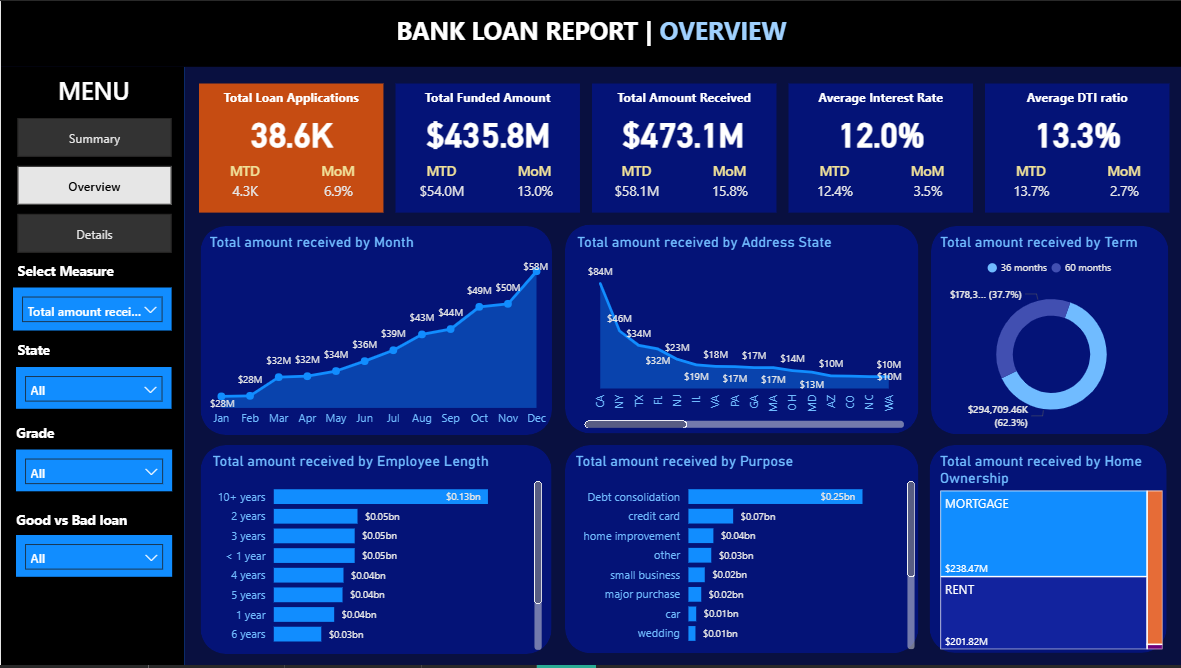

The dashboard page shown, as its layout file describes it:
{"tool":"powerbi","page":{"name":"Overview","canvas":[1280,720],"ordinal":1},"visuals":[{"type":"shape","box":[0,0,1280.1,71.6],"z":0},{"type":"shape","box":[0,71.6,198.4,649],"z":1000},{"type":"textbox","box":[366,8.1,548.1,53.7],"z":2000},{"type":"textbox","box":[214.3,89.2,200,140],"z":3000},{"type":"card","fields":{"Values":["bankdata loandata.Total Loan Applications"]},"box":[225.5,118,177.5,46.2],"z":4000},{"type":"card","title":"MTD","fields":{"Values":["bankdata loandata.MTD loan applications"]},"box":[225.5,173.8,76.7,46.7],"z":5000},{"type":"card","title":"MoM","fields":{"Values":["bankdata loandata.MoM loan applications"]},"box":[326.4,173.8,76.7,46.7],"z":6000},{"type":"textbox","box":[428,89.3,200,140],"z":7000},{"type":"card","fields":{"Values":["bankdata loandata.Total funded amount"]},"box":[439.7,118,177.5,46.7],"z":8000},{"type":"card","title":"MTD","fields":{"Values":["bankdata loandata.MTD funded amount"]},"box":[439.7,173.8,76.7,46.7],"z":9000},{"type":"card","title":"MoM","fields":{"Values":["bankdata loandata.MoM funded amount"]},"box":[540.5,173.8,76.7,46.7],"z":10000},{"type":"textbox","box":[640.5,89.4,200,140],"z":11000},{"type":"textbox","box":[853.9,89.5,200,140],"z":12000},{"type":"textbox","box":[1067.2,89.6,200,140],"z":13000},{"type":"card","fields":{"Values":["bankdata loandata.Total amount received"]},"box":[651.4,118,177.5,46.7],"z":14000},{"type":"card","fields":{"Values":["bankdata loandata.Avg interest rate"]},"box":[864.7,118,177.5,46.7],"z":15000},{"type":"card","fields":{"Values":["bankdata loandata.Avg dti ratio"]},"box":[1078,118,177.5,46.7],"z":16000},{"type":"card","title":"MTD","fields":{"Values":["bankdata loandata.MTD amount received"]},"box":[651.4,173.8,76.7,46.7],"z":17000},{"type":"card","title":"MoM","fields":{"Values":["bankdata loandata.MoM amount received"]},"box":[752.2,173.8,76.7,46.7],"z":18000},{"type":"card","title":"MTD","fields":{"Values":["bankdata loandata.MTD interest rate"]},"box":[864.7,173.8,76.7,46.7],"z":19000},{"type":"card","title":"MTD","fields":{"Values":["bankdata loandata.MTD dti"]},"box":[1078,173.8,76.7,46.7],"z":20000},{"type":"card","title":"MoM","fields":{"Values":["bankdata loandata.MoM interest rate"]},"box":[965.5,173.8,76.7,46.7],"z":21000},{"type":"card","title":"MoM","fields":{"Values":["bankdata loandata.MoM"]},"box":[1178.9,173.8,76.7,46.7],"z":22000},{"type":"shape","box":[216.7,243.3,381.1,226.7],"z":23000},{"type":"slicer","title":"State","fields":{"Values":["bankdata loandata.Address_State"]},"box":[16.7,396.7,168.3,45],"z":24000},{"type":"textbox","box":[12.7,362.7,123.6,33.6],"z":25000},{"type":"slicer","title":"State","fields":{"Values":["bankdata loandata.Grade"]},"box":[16.4,486.4,169.1,45.5],"z":26000},{"type":"textbox","box":[11.8,452.7,123.6,33.6],"z":27000},{"type":"slicer","title":"State","fields":{"Values":["bankdata loandata.Good vs Bad loan"]},"box":[16.7,579.4,169.1,45.5],"z":28000},{"type":"textbox","box":[11.4,545.7,172.9,34.3],"z":29000},{"type":"areaChart","fields":{"Y":["bankdata loandata.Total amount received"],"Category":["Date table.Month"]},"box":[221.1,252.2,376.7,217.8],"z":30000},{"type":"slicer","fields":{"Values":["Select Measure.Select Measure"]},"box":[13.3,310,171.7,46.7],"z":31000},{"type":"textbox","box":[13.8,276.2,123.8,33.8],"z":32000},{"type":"shape","box":[611.7,241.7,383.3,226.7],"z":33000},{"type":"areaChart","fields":{"Y":["bankdata loandata.Total amount received"],"Category":["bankdata loandata.Address_State"]},"box":[619.6,252.6,364.3,215.7],"z":34000},{"type":"shape","box":[1009.2,243.3,257.5,225.8],"z":35000},{"type":"donutChart","fields":{"Y":["bankdata loandata.Total amount received"],"Category":["bankdata loandata.Term"]},"box":[1013.3,252.5,250.8,216.7],"z":36000},{"type":"shape","box":[216.7,481.7,380.8,226.7],"z":37000},{"type":"barChart","fields":{"Y":["bankdata loandata.Total amount received"],"Category":["bankdata loandata.Emp_Length"]},"box":[224.2,489.2,366.7,219.2],"z":38000},{"type":"shape","box":[611.7,481.7,383.3,225.8],"z":39000},{"type":"barChart","fields":{"Y":["bankdata loandata.Total amount received"],"Category":["bankdata loandata.Purpose"]},"box":[617.5,489.2,377.5,218.3],"z":40000},{"type":"shape","box":[1007.3,481.8,257.3,225.5],"z":41000},{"type":"treemap","fields":{"Values":["bankdata loandata.Total amount received"],"Group":["bankdata loandata.Home_Ownership"]},"box":[1013.6,489.1,250.9,218.2],"z":42000},{"type":"textbox","box":[16.2,73.8,168.8,52.5],"z":43000},{"type":"pageNavigator","box":[17.5,126.2,167.5,147.5],"z":44000}]}

Visuals, with their boxes in screenshot pixels (x1, y1, x2, y2), scaled from the page's 1280x720 canvas onto the 1181x668 screenshot:
shape: (0, 0, 1180, 66)
shape: (0, 66, 183, 667)
textbox: (338, 8, 843, 57)
textbox: (198, 83, 382, 213)
card - bankdata loandata.Total Loan Applications: (208, 109, 372, 152)
"MTD" card: (208, 161, 279, 205)
"MoM" card: (301, 161, 372, 205)
textbox: (395, 83, 579, 213)
card - bankdata loandata.Total funded amount: (406, 109, 569, 153)
"MTD" card: (406, 161, 476, 205)
"MoM" card: (499, 161, 569, 205)
textbox: (591, 83, 775, 213)
textbox: (788, 83, 972, 213)
textbox: (985, 83, 1169, 213)
card - bankdata loandata.Total amount received: (601, 109, 765, 153)
card - bankdata loandata.Avg interest rate: (798, 109, 962, 153)
card - bankdata loandata.Avg dti ratio: (995, 109, 1158, 153)
"MTD" card: (601, 161, 672, 205)
"MoM" card: (694, 161, 765, 205)
"MTD" card: (798, 161, 869, 205)
"MTD" card: (995, 161, 1065, 205)
"MoM" card: (891, 161, 962, 205)
"MoM" card: (1088, 161, 1158, 205)
shape: (200, 226, 552, 436)
"State" slicer: (15, 368, 171, 410)
textbox: (12, 337, 126, 368)
"State" slicer: (15, 451, 171, 493)
textbox: (11, 420, 125, 451)
"State" slicer: (15, 538, 171, 580)
textbox: (11, 506, 170, 538)
areaChart - bankdata loandata.Total amount received x Date table.Month: (204, 234, 552, 436)
slicer - Select Measure.Select Measure: (12, 288, 171, 331)
textbox: (13, 256, 127, 288)
shape: (564, 224, 918, 435)
areaChart - bankdata loandata.Total amount received x bankdata loandata.Address_State: (572, 234, 908, 434)
shape: (931, 226, 1169, 435)
donutChart - bankdata loandata.Total amount received x bankdata loandata.Term: (935, 234, 1166, 435)
shape: (200, 447, 551, 657)
barChart - bankdata loandata.Total amount received x bankdata loandata.Emp_Length: (207, 454, 545, 657)
shape: (564, 447, 918, 656)
barChart - bankdata loandata.Total amount received x bankdata loandata.Purpose: (570, 454, 918, 656)
shape: (929, 447, 1167, 656)
treemap - bankdata loandata.Total amount received x bankdata loandata.Home_Ownership: (935, 454, 1167, 656)
textbox: (15, 68, 171, 117)
pageNavigator: (16, 117, 171, 254)
